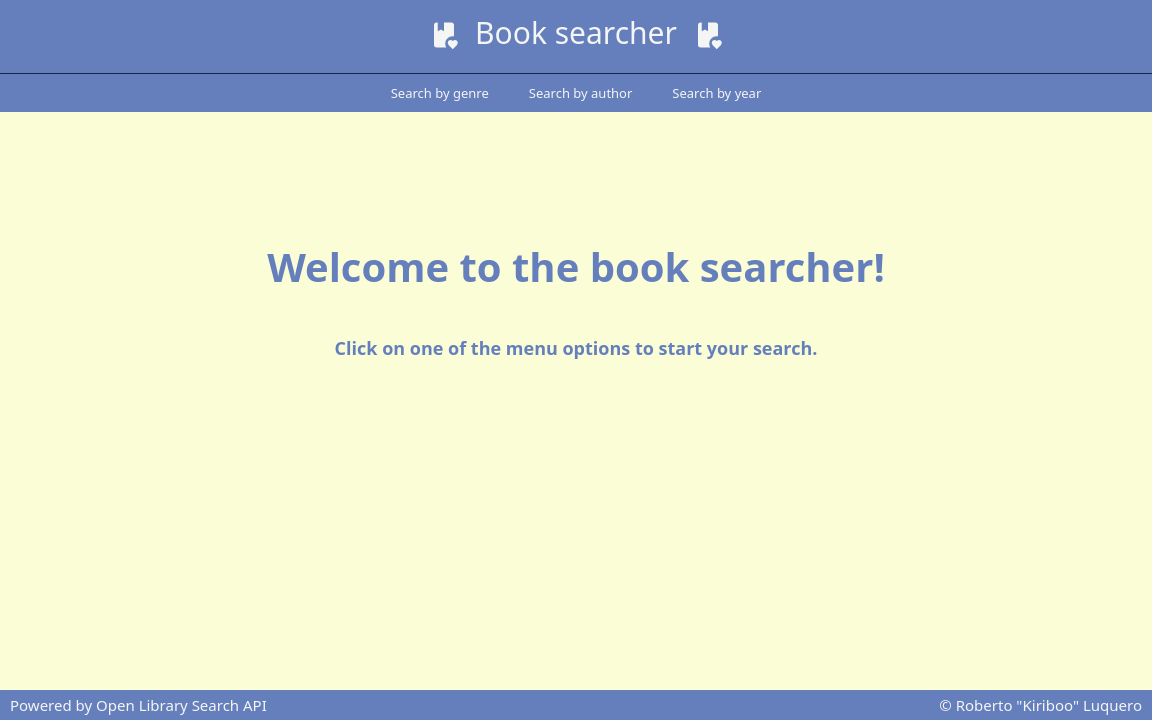
App tests › App navigation
Expected: the element with test id "welcome" is shown, [267,239,885,360]
Click the link with test id "genre-link": (440, 93) [391,84,489,102]
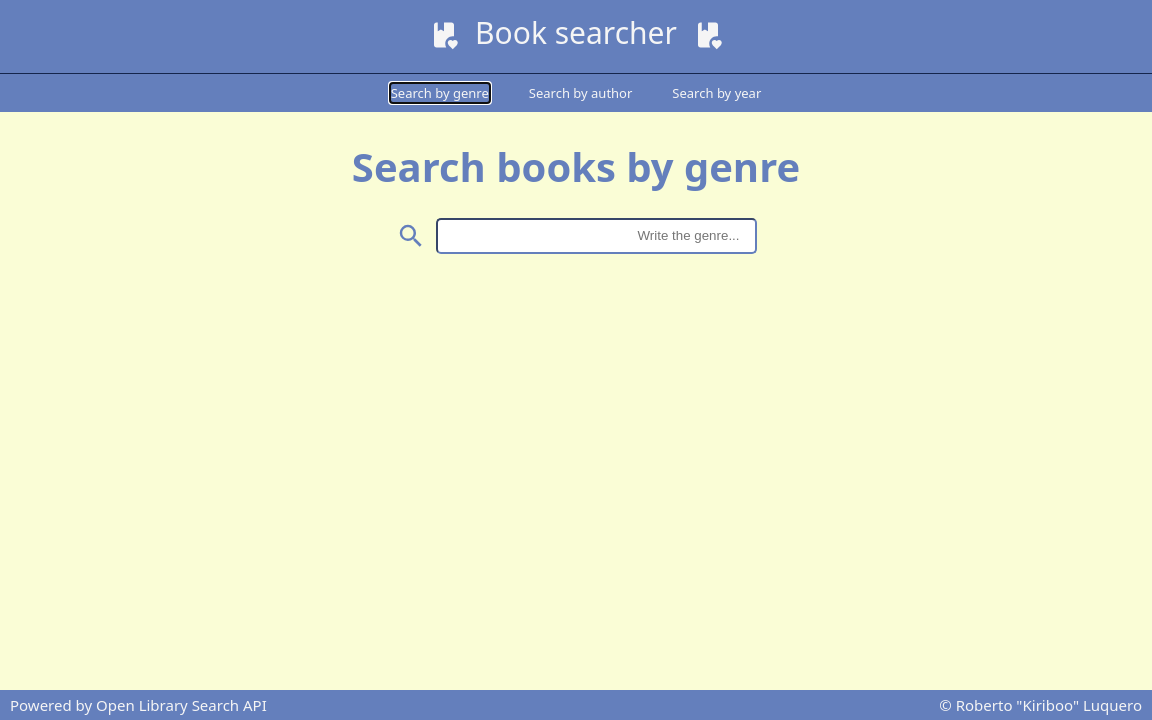
Expected: the element with test id "genre" is shown, [352,139,800,254]
Click the link with test id "author-link": (581, 93) [529,84,632,102]
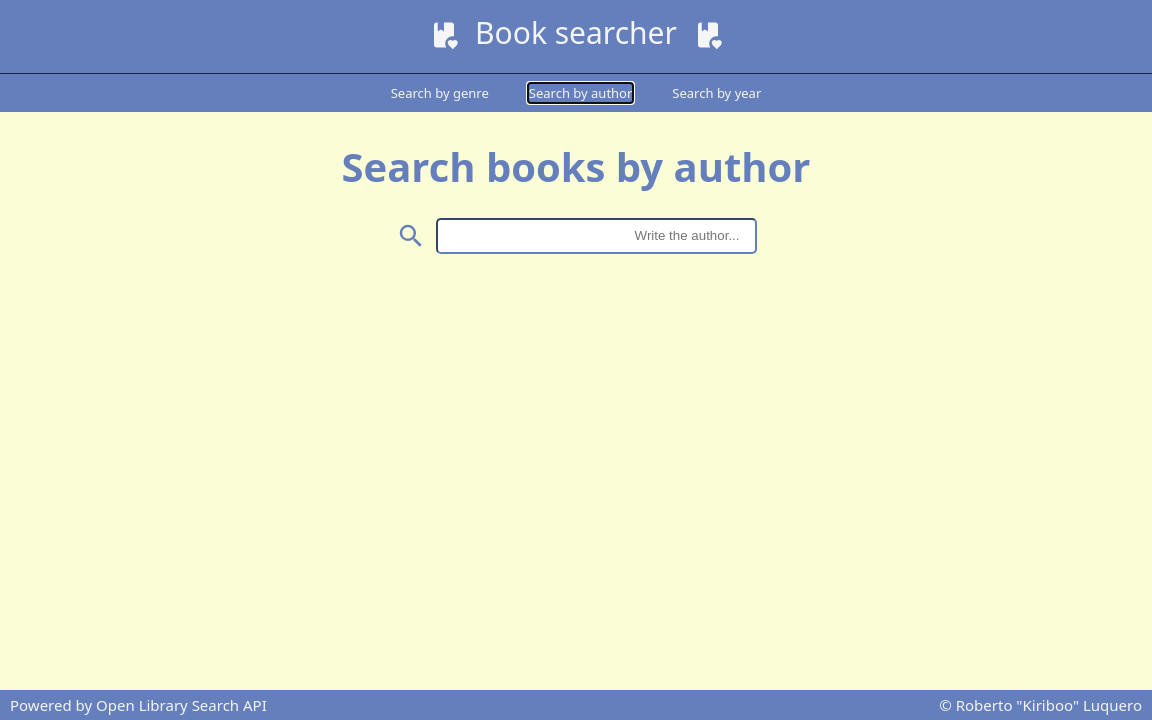
Expected: the element with test id "author" is shown, [342,139,810,254]
Click the link with test id "years-link": (717, 93) [672,84,761,102]
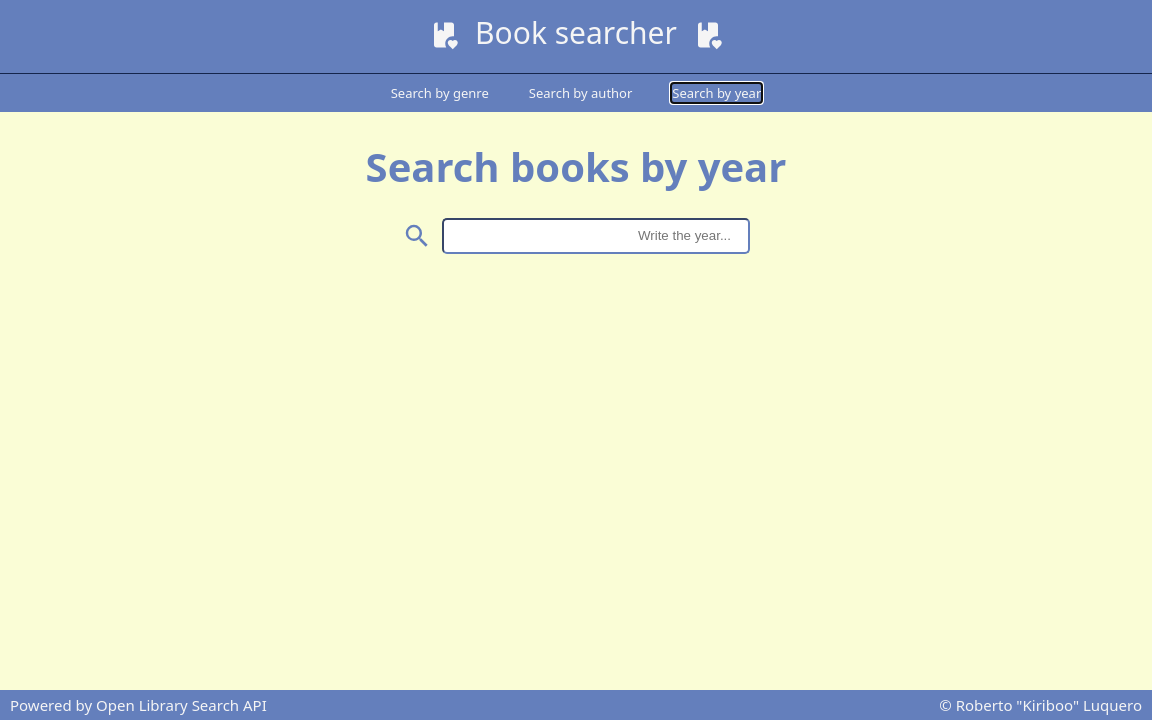
Expected: the element with test id "years" is shown, [366,139,786,254]
